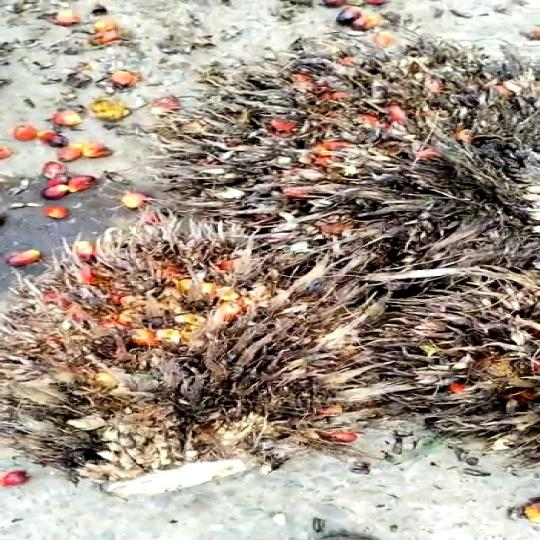terlalu masak: (0, 227, 401, 489), (181, 43, 540, 258)
